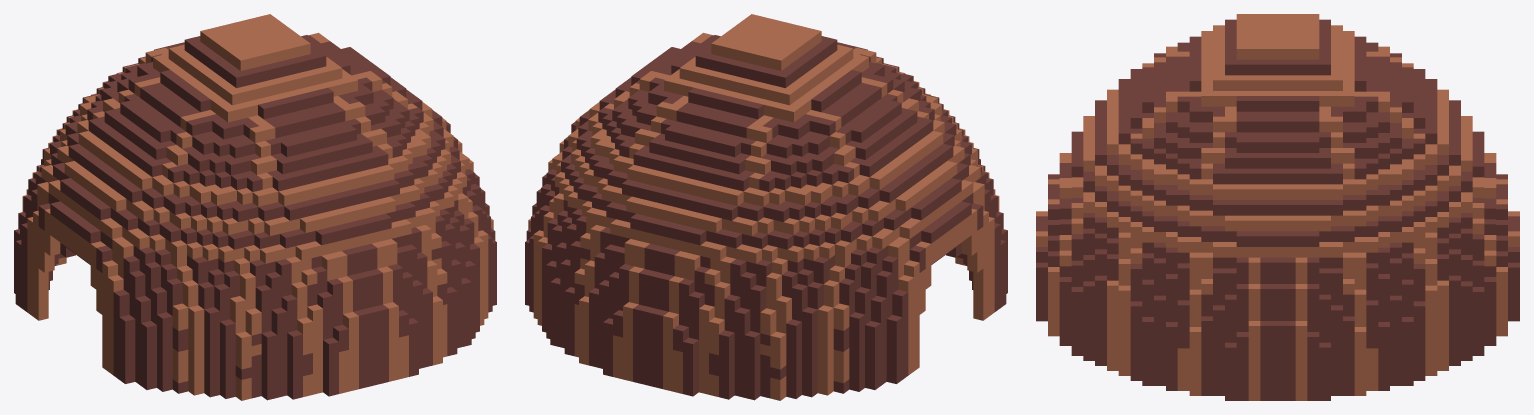
Rendered from hut.obj.
3 renders of one model, left to right at view 1: azimuth 30°, elevation 25°; view 2: azimuth 150°, elevation 25°; view 3: azimuth 270°, elevation 25°, orthographic. The views are drawn at different scales.
Parts seen in each view (by area): view 1: hut; view 2: hut; view 3: hut.
Part boxes in pixels (box(x1,y1,x2,y2)): hut: box(14, 14, 496, 400); hut: box(525, 14, 1007, 400); hut: box(1036, 14, 1519, 400).
Size of the model in its own units: 39 by 25 by 41.
Materials: 1 (1 with a texture image).
